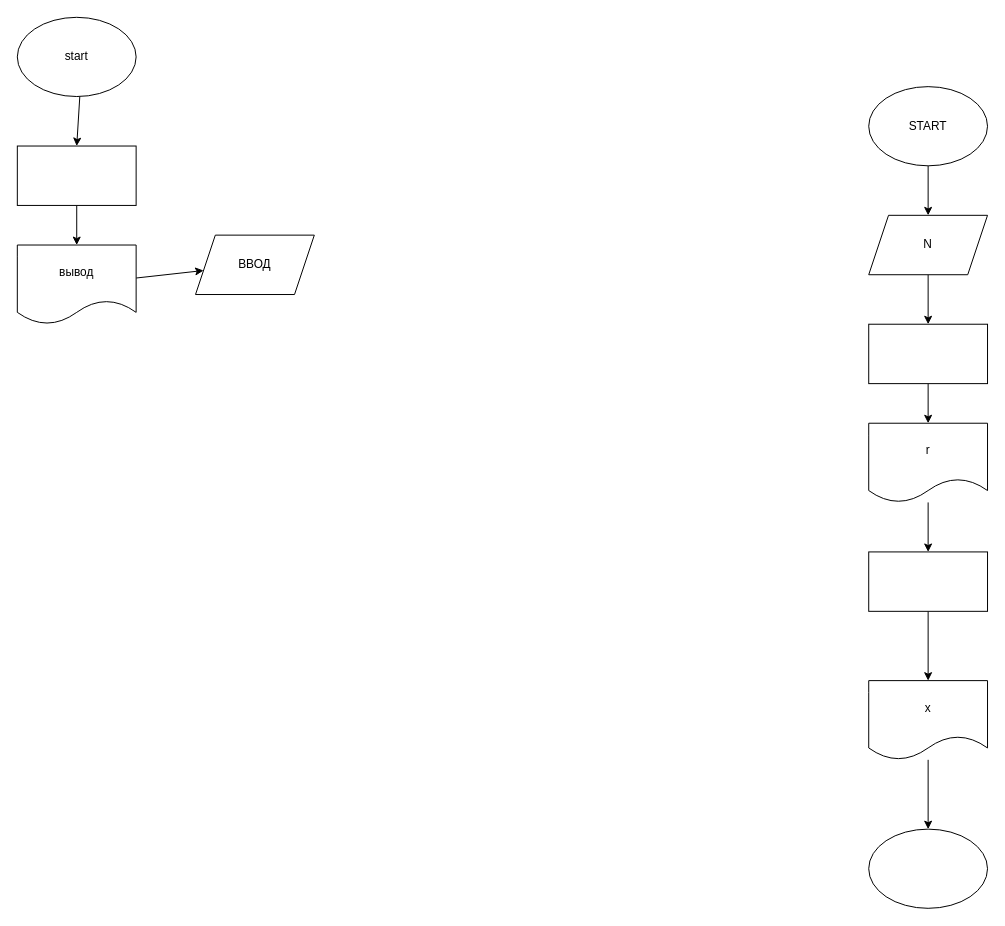
Image size: 1005x926. Some labels were removed from this diagram. The shapes that lost their labels are listed below. From the top down, each one's box as (x1, y1, x2, y2) in pixels, then its label:
(16, 145, 136, 205): count = 0
(868, 323, 988, 384): r = random (1,N)
(868, 551, 988, 611): x = r*r
(868, 828, 988, 908): END
